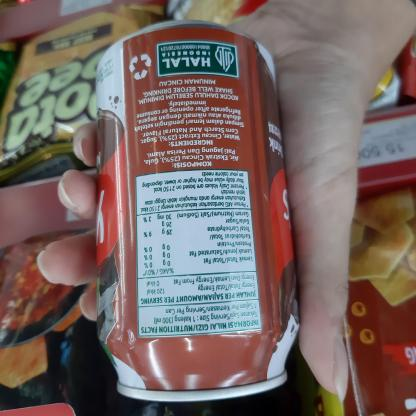alumunium_can: (80, 12, 309, 410)
